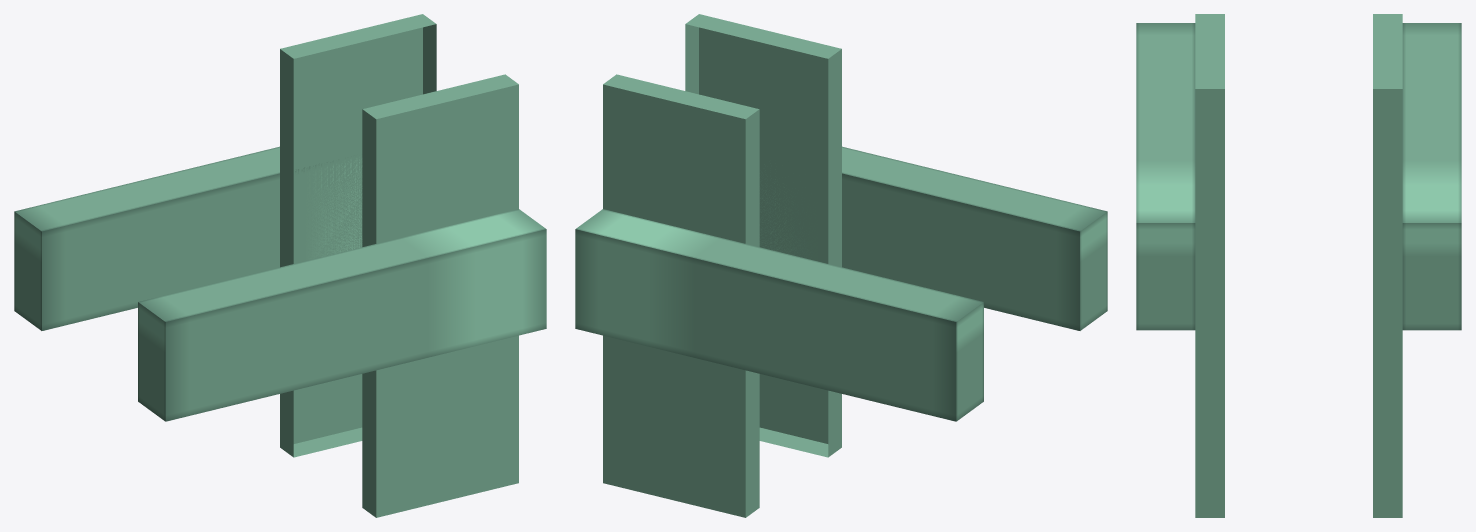
Rendered from SM_Lab_DoorPart_Lever_16x16.fbx.
3 views of the same model, side by side, from view 1: azimuth 30°, elevation 25°; view 2: azimuth 150°, elevation 25°; view 3: azimuth 270°, elevation 25° (orthographic). The views are drawn at different scales.
Visible parts, largest first — view 1: SM_Lab_DoorPart_Lever_16x16; view 2: SM_Lab_DoorPart_Lever_16x16; view 3: SM_Lab_DoorPart_Lever_16x16.
Boxes of the visible parts, x1,y1,x2,y2 form: SM_Lab_DoorPart_Lever_16x16: [14, 14, 546, 517]; SM_Lab_DoorPart_Lever_16x16: [575, 14, 1107, 517]; SM_Lab_DoorPart_Lever_16x16: [1136, 14, 1461, 517].
Bounding box in the file's own units: 0.16 × 0.16 × 0.11.
